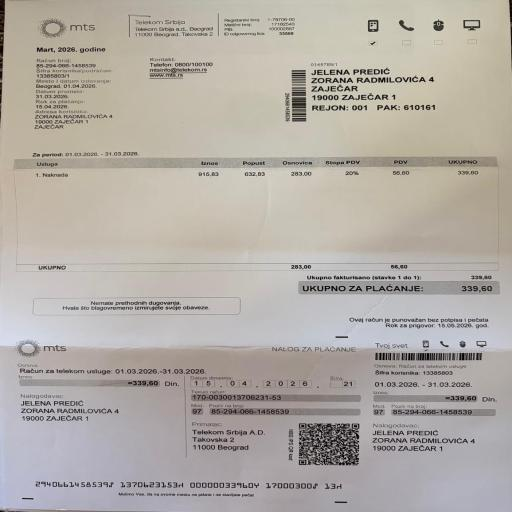mts: (26, 158, 491, 182)
mts_iznos: (301, 282, 502, 298)
mts_uplatnica: (373, 379, 504, 420)
